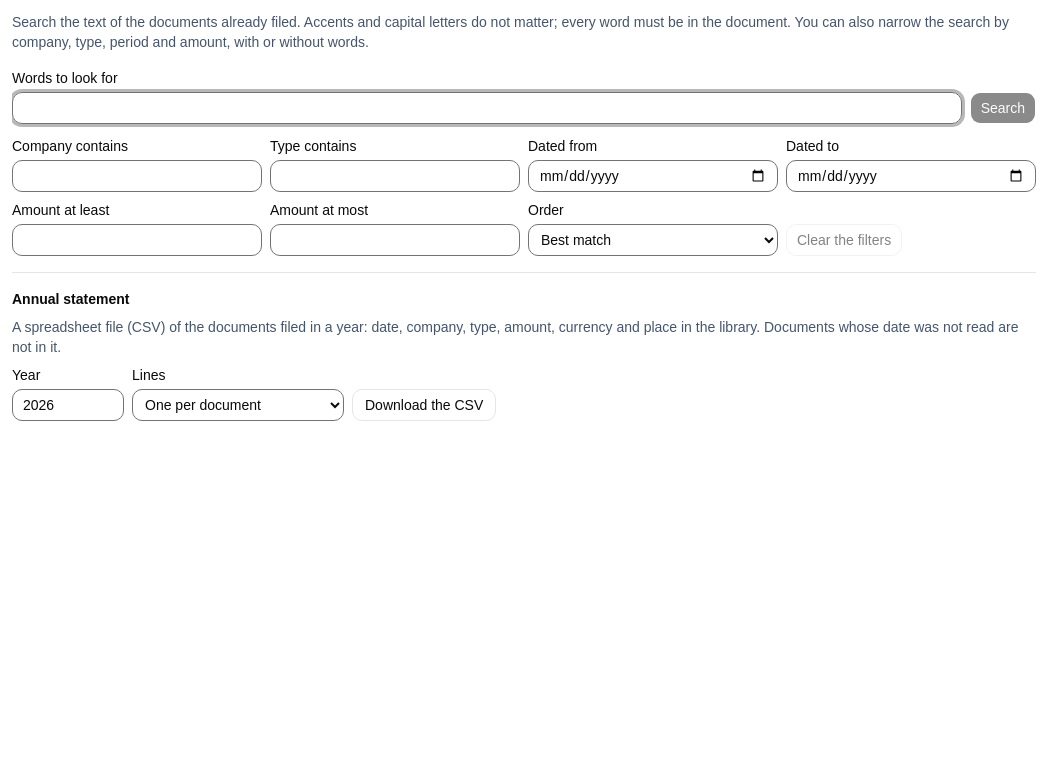
it: a failed search does not leave the results of the previous one on screen
In the search field labelled "Words to look for": (487,108) x1=12 y1=92 x2=962 y2=124, type "invoice"
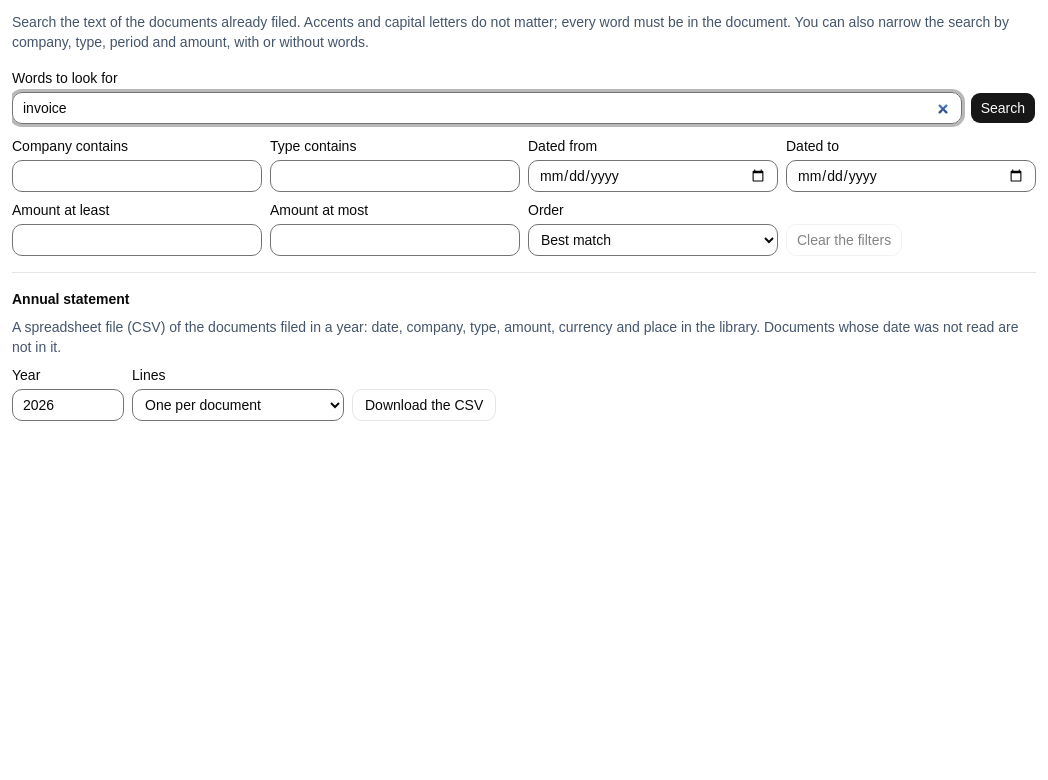
Submit the form labelled "Words to look for", box x1=12 y1=68 x2=1036 y2=256
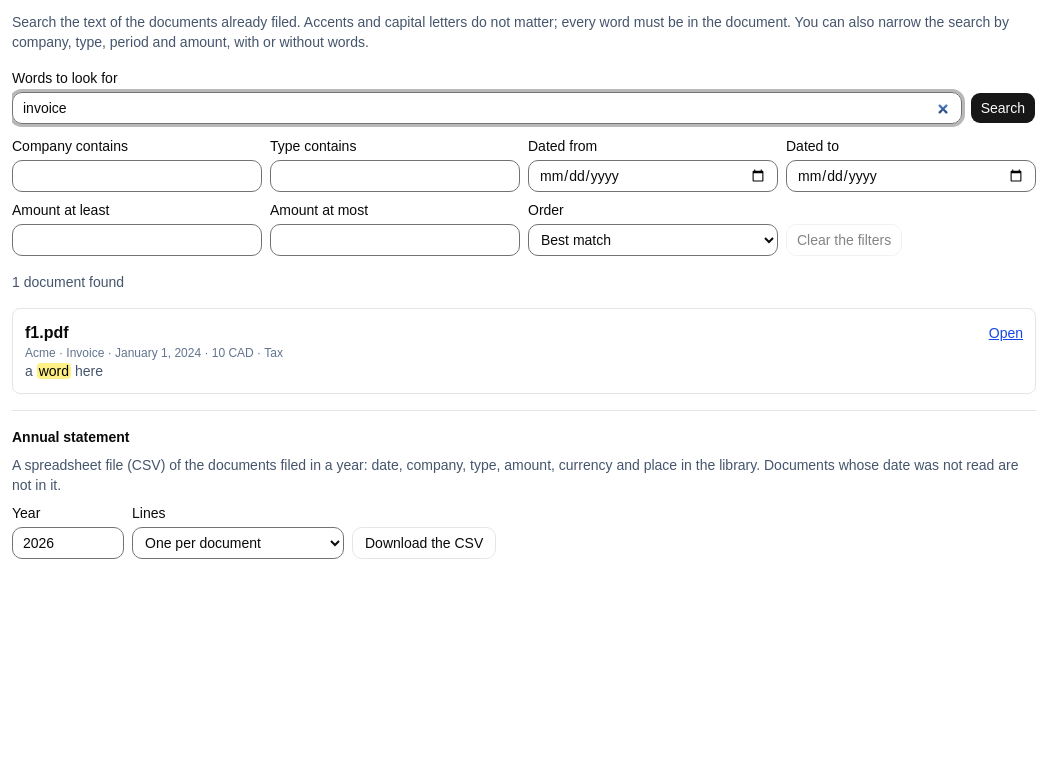
Check: the text "f1.pdf" is shown, box x1=25 y1=321 x2=68 y2=345
Submit the form labelled "Words to look for", box x1=12 y1=68 x2=1036 y2=256
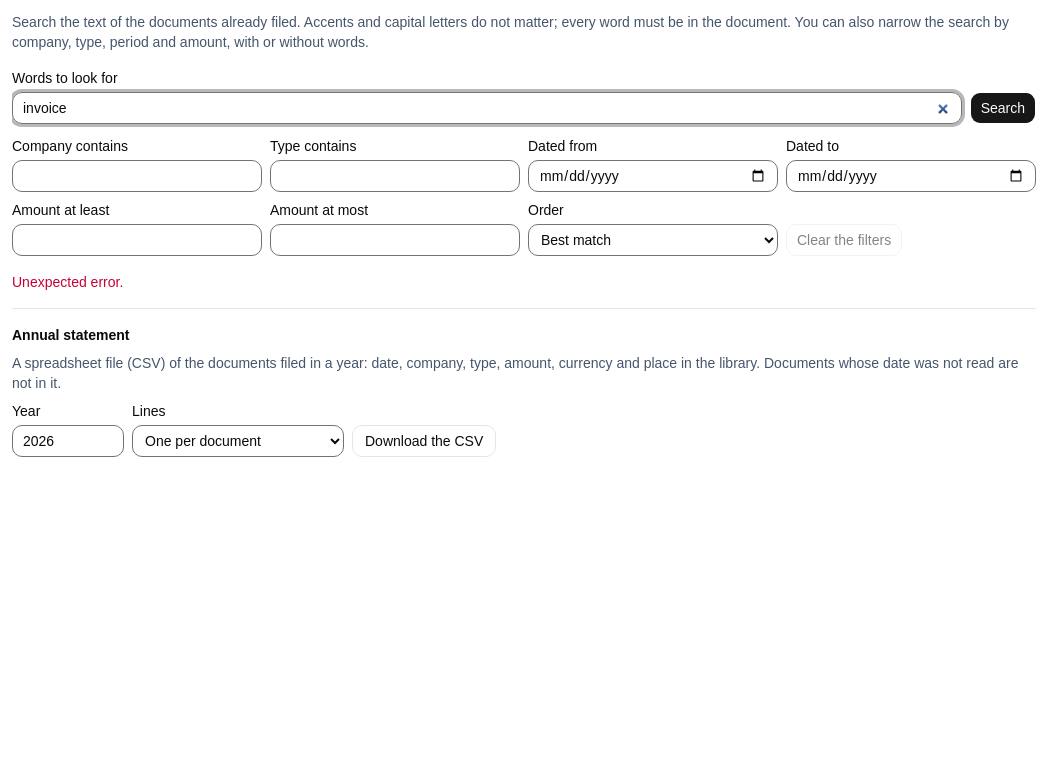
Check: the message reads "Unexpected error.", box x1=12 y1=274 x2=123 y2=290
Check: the text "f1.pdf" is gone
